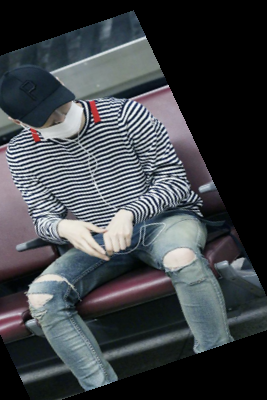mask_weared_incorrect: (1, 43, 103, 157)
